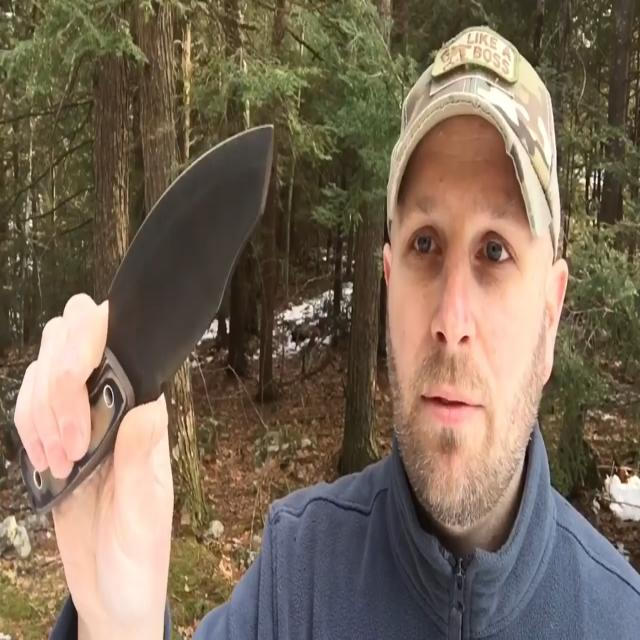knife: (23, 115, 281, 527)
